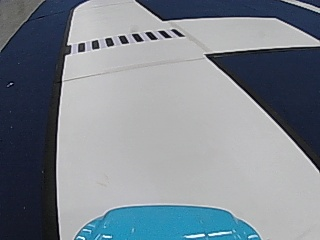CrossWalk: (68, 27, 180, 54)
